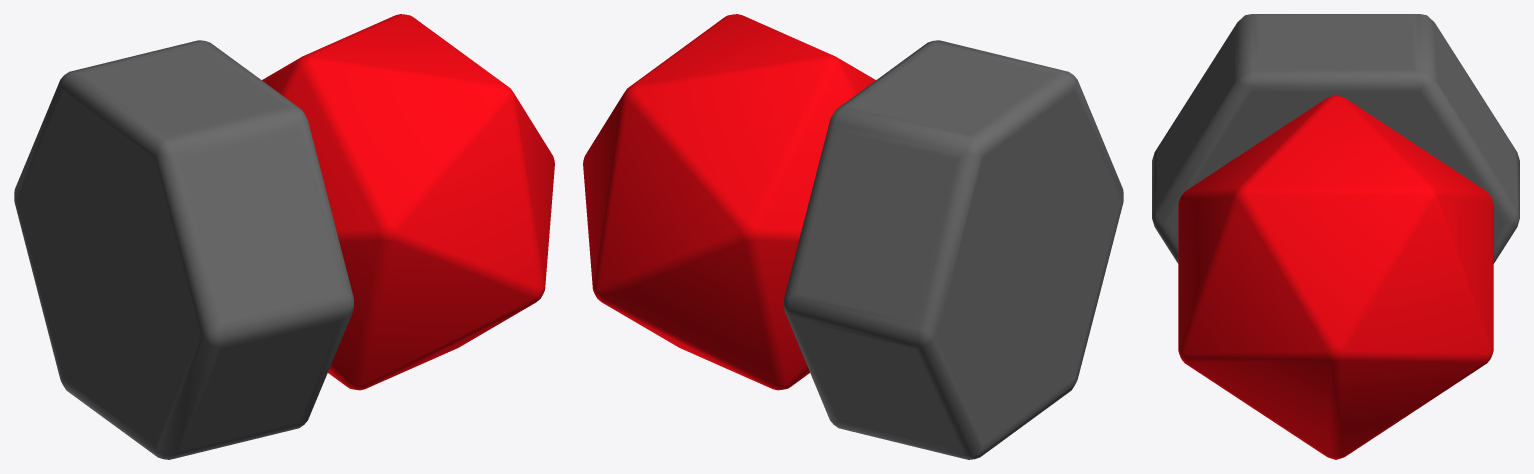
The model's file is LaserEmitter.fbx.
3 views of the same model, side by side, from view 1: azimuth 30°, elevation 25°; view 2: azimuth 150°, elevation 25°; view 3: azimuth 270°, elevation 25° (orthographic). The views are drawn at different scales.
Visible parts, largest first — view 1: Icosphere; view 2: Icosphere; view 3: Icosphere.
Part boxes in pixels (x1=…): Icosphere: x1=14, y1=14, x2=554, y2=459; Icosphere: x1=583, y1=14, x2=1123, y2=459; Icosphere: x1=1152, y1=14, x2=1519, y2=459.
Size of the model in its own units: 252 by 177 by 197.
